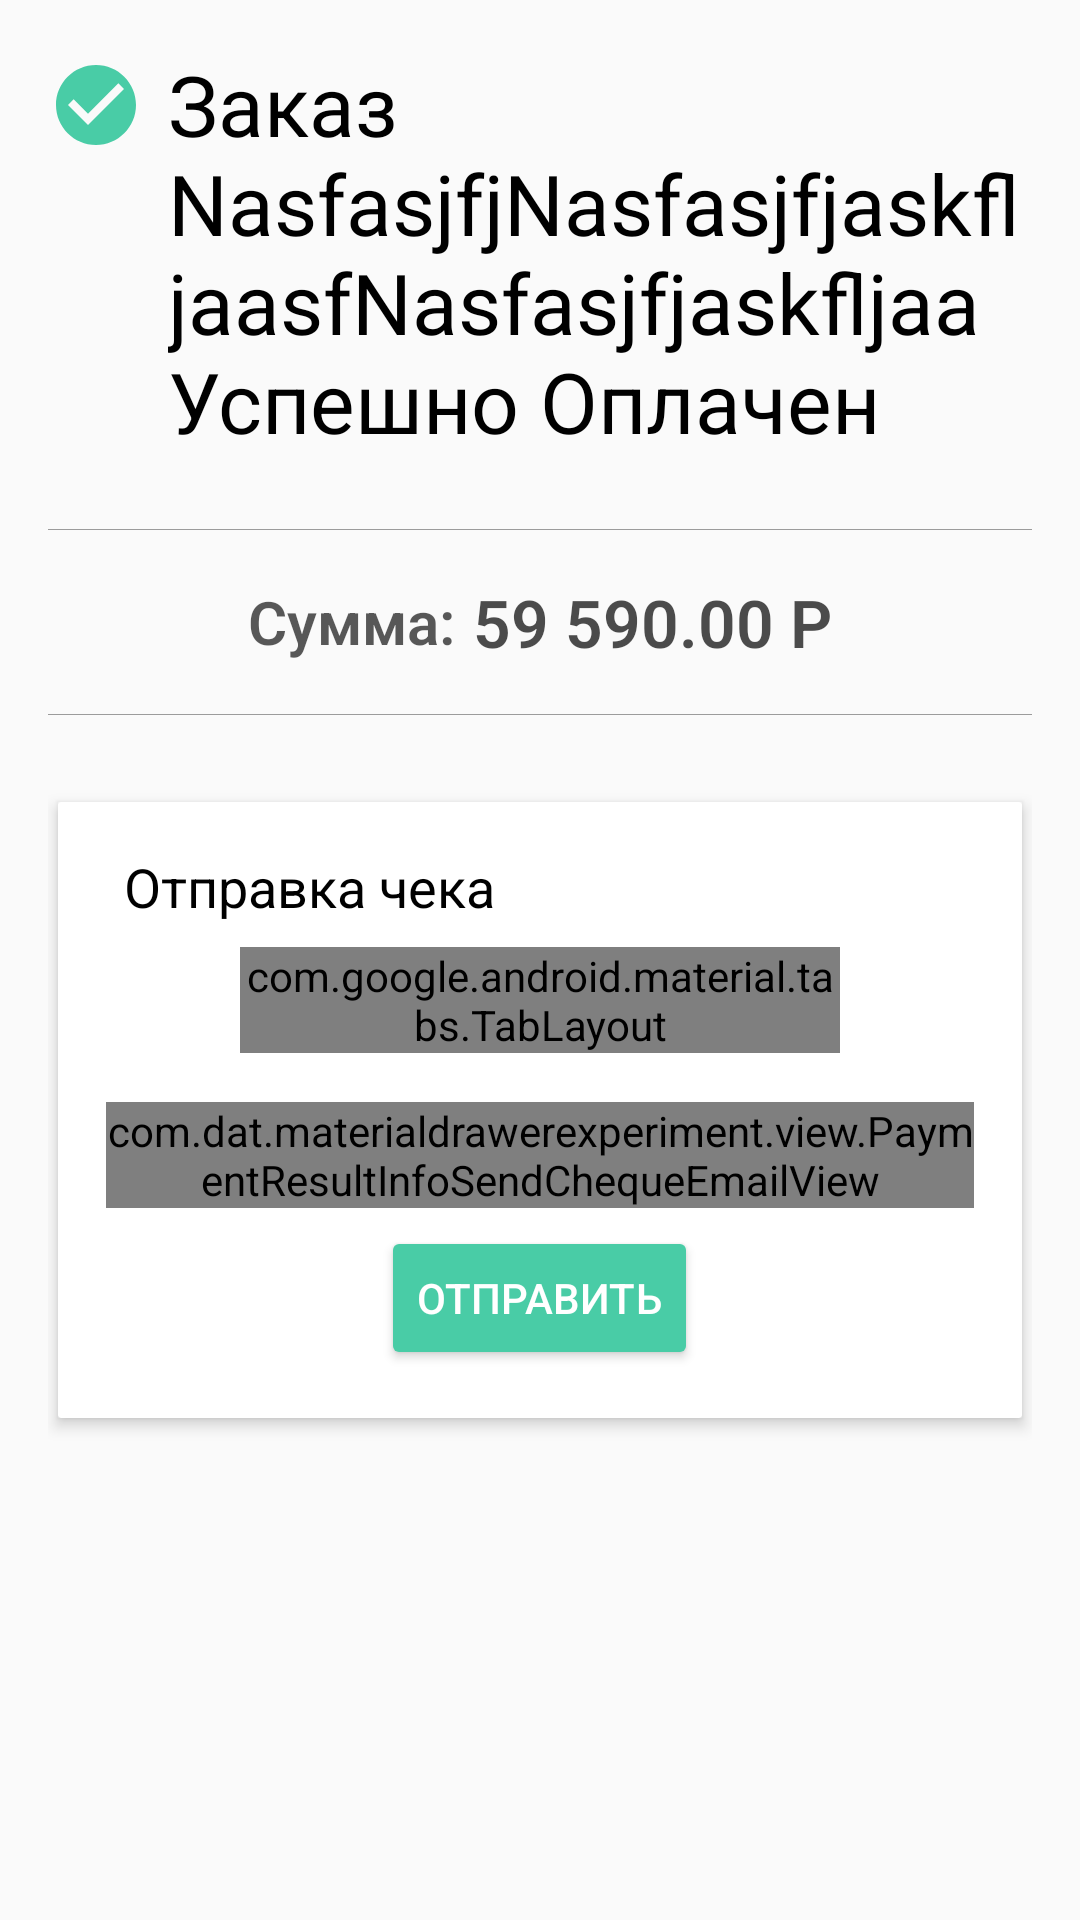

Locate icon controls on the screen. Image size 1080*1920, boxes as (x1, y1, x2, y2).
info view payment success: (56, 65, 136, 145)
